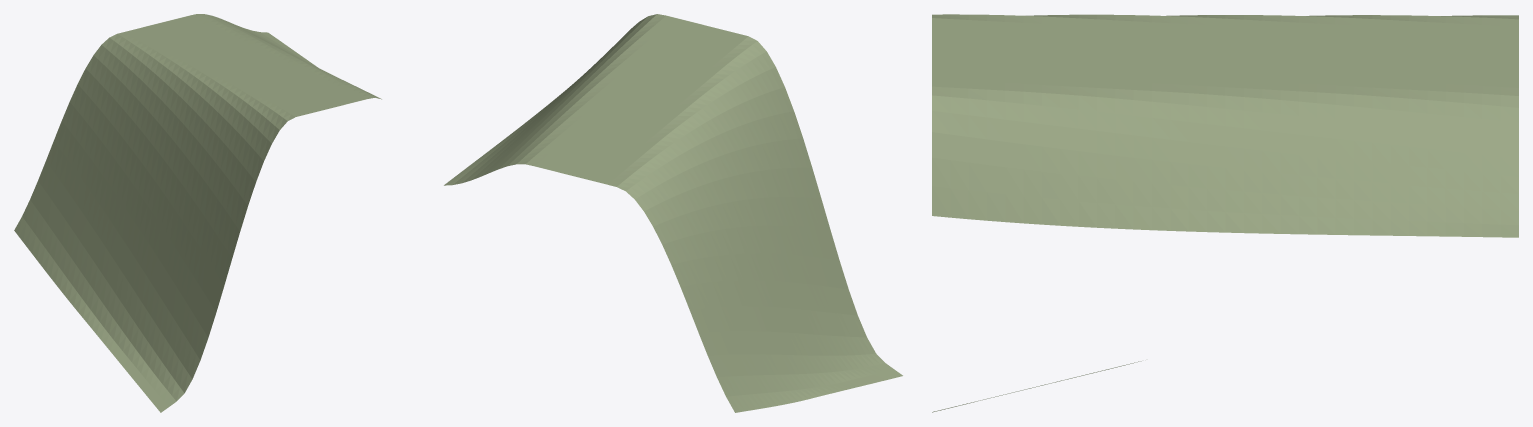
Rendered from alpine-12-10.glb.
The picture shows the model from 3 angles, left to right: view 1: azimuth 30°, elevation 25°; view 2: azimuth 150°, elevation 25°; view 3: azimuth 270°, elevation 25°; orthographic projection. The views are drawn at different scales.
Parts seen in each view (by area): view 1: alpine-12-10; view 2: alpine-12-10; view 3: alpine-12-10.
Boxes of the visible parts, box(x1,y1,x2,y2) form: alpine-12-10: box(14, 14, 381, 412); alpine-12-10: box(444, 14, 902, 412); alpine-12-10: box(932, 14, 1518, 412).
Size of the model in its own units: 256 by 254 by 256.
